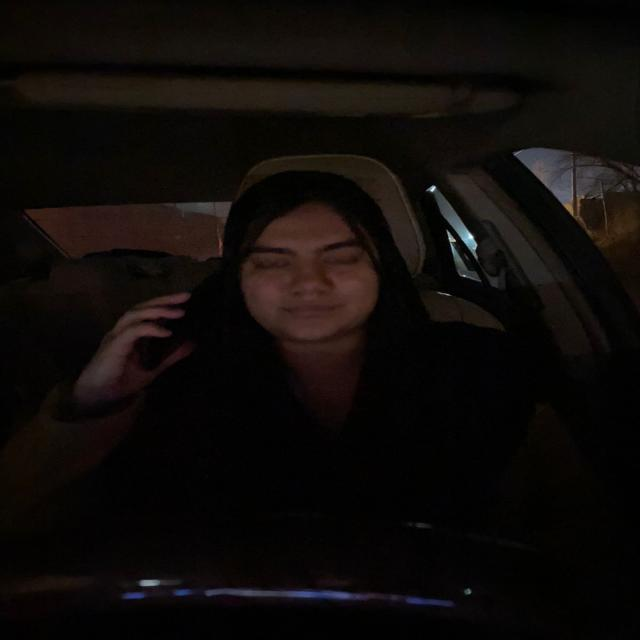drowsy: (224, 182, 393, 352)
mobile: (132, 252, 234, 376)
